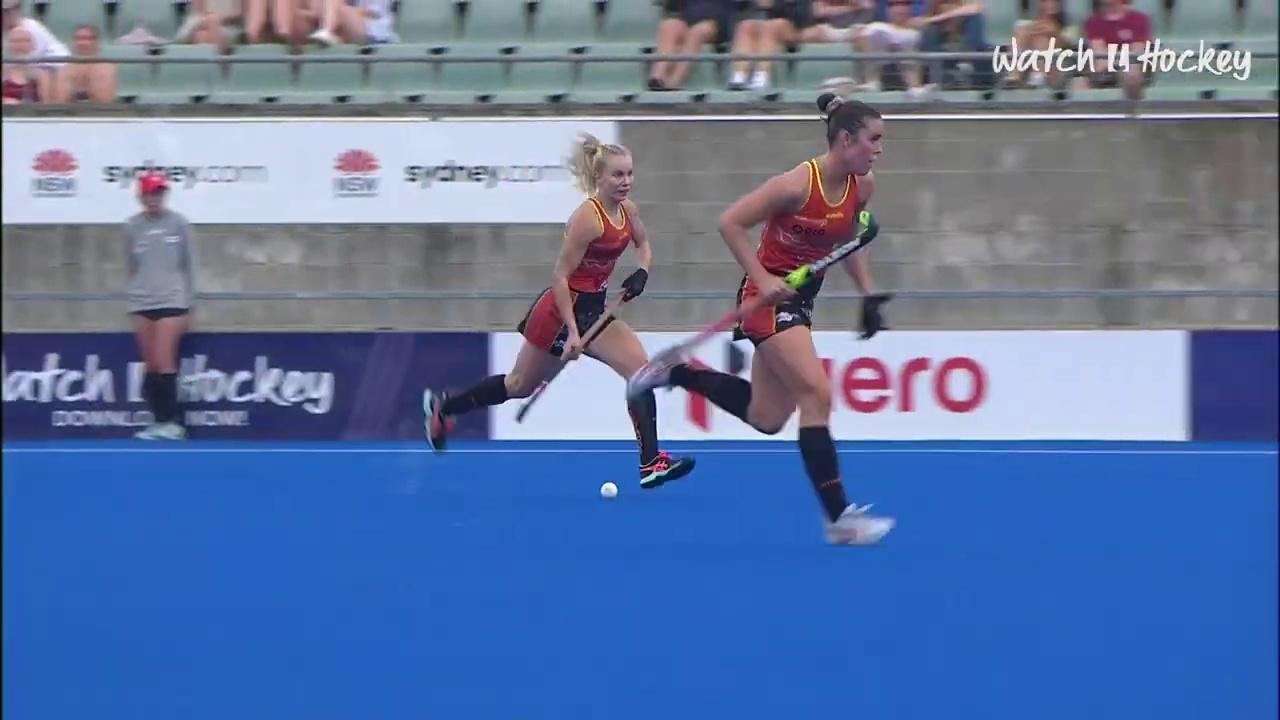ball: (577, 465, 634, 512)
